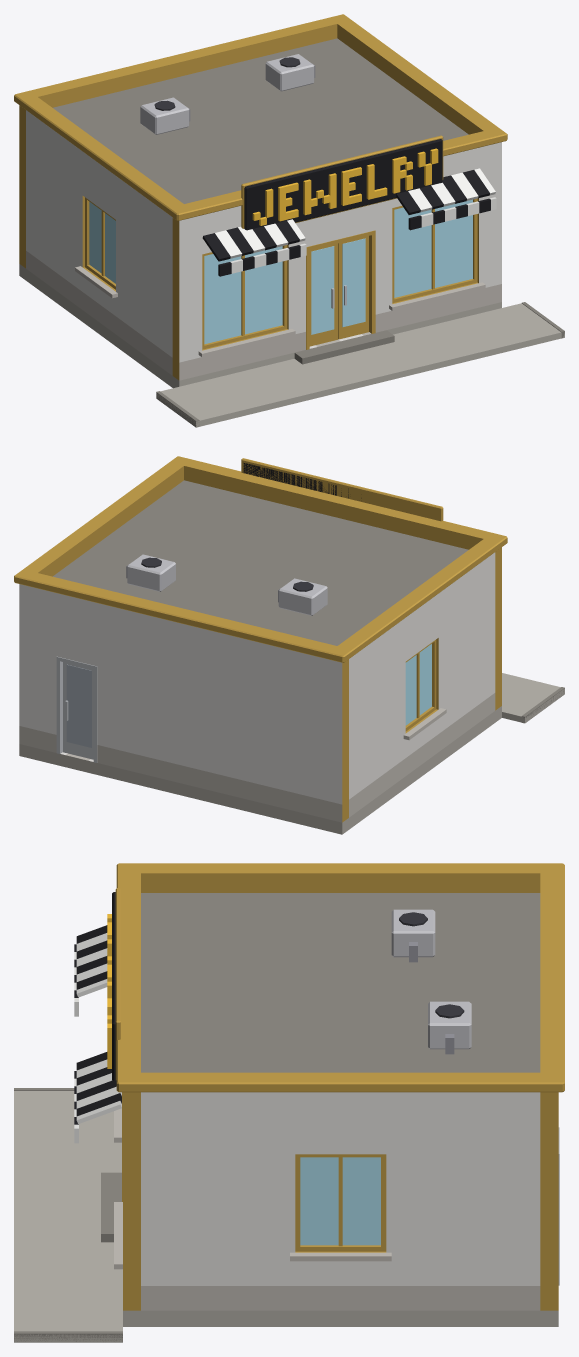
Rendered from JewelryStore.fbx.
3 renders of one model, top to bottom at view 1: azimuth 30°, elevation 25°; view 2: azimuth 150°, elevation 25°; view 3: azimuth 270°, elevation 25°, orthographic. The views are drawn at different scales.
Parts seen in each view (by area): view 1: JewelryStore, JewelryStore_Roof, JewelryStore_Glass, JewelryStore_Sign, JewelryStore_DoorR, JewelryStore_DoorL; view 2: JewelryStore, JewelryStore_Roof, JewelryStore_Sign, JewelryStore_BackDoor, JewelryStore_Glass; view 3: JewelryStore, JewelryStore_Roof, JewelryStore_Glass, JewelryStore_Sign.
Part boxes in pixels (left/top/right/bottom): JewelryStore: left=14, top=14, right=564, bottom=427; JewelryStore_Roof: left=53, top=38, right=468, bottom=203; JewelryStore_Glass: left=89, top=199, right=472, bottom=344; JewelryStore_Sign: left=241, top=135, right=443, bottom=230; JewelryStore_DoorR: left=338, top=236, right=368, bottom=339; JewelryStore_DoorL: left=309, top=243, right=337, bottom=346; JewelryStore: left=14, top=456, right=564, bottom=834; JewelryStore_Roof: left=53, top=480, right=468, bottom=645; JewelryStore_Sign: left=241, top=458, right=443, bottom=521; JewelryStore_BackDoor: left=63, top=662, right=93, bottom=759; JewelryStore_Glass: left=405, top=644, right=431, bottom=725; JewelryStore: left=14, top=863, right=564, bottom=1342; JewelryStore_Roof: left=141, top=893, right=540, bottom=1072; JewelryStore_Glass: left=300, top=1157, right=380, bottom=1245; JewelryStore_Sign: left=107, top=888, right=120, bottom=1080.
Bounding box in the file's own units: 32 × 16.13 × 30.35.
1 material, 1 textured.
